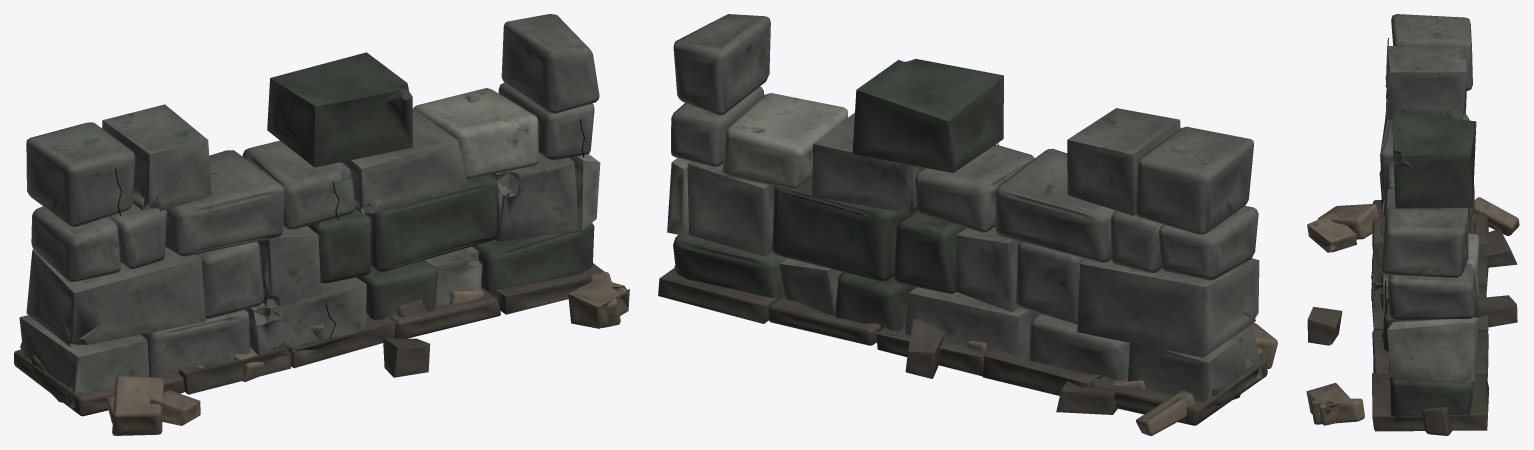
Rendered from broken-wall.glb.
3 views of the same model, side by side, from view 1: azimuth 30°, elevation 25°; view 2: azimuth 150°, elevation 25°; view 3: azimuth 270°, elevation 25° (orthographic). The views are drawn at different scales.
Parts seen in each view (by area): view 1: Body_Baked.058; view 2: Body_Baked.058; view 3: Body_Baked.058.
Boxes of the visible parts, <box> form: Body_Baked.058: <box>14,14,629,435</box>; Body_Baked.058: <box>658,14,1277,435</box>; Body_Baked.058: <box>1306,14,1519,435</box>.
Size of the model in its own units: 4.3 by 1.92 by 1.75.
Materials: 1 (1 with a texture image).
